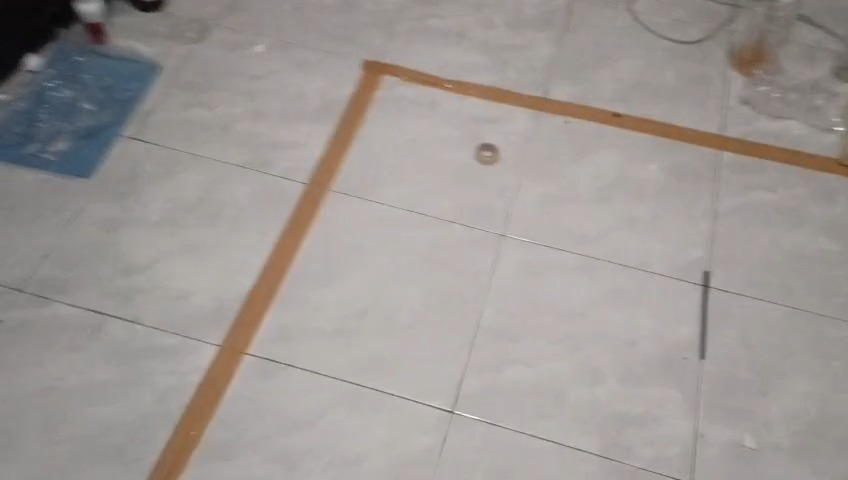floor marking: (148, 61, 847, 479)
